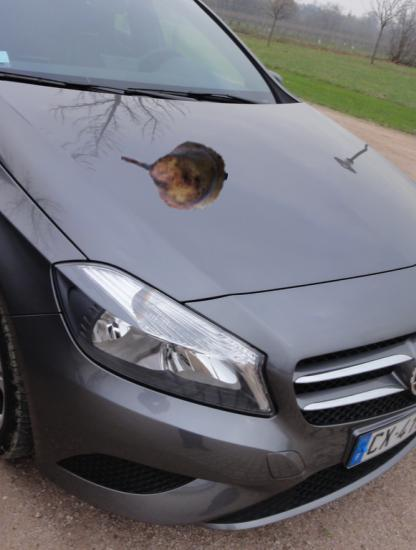Pear: (119, 120, 228, 229)
